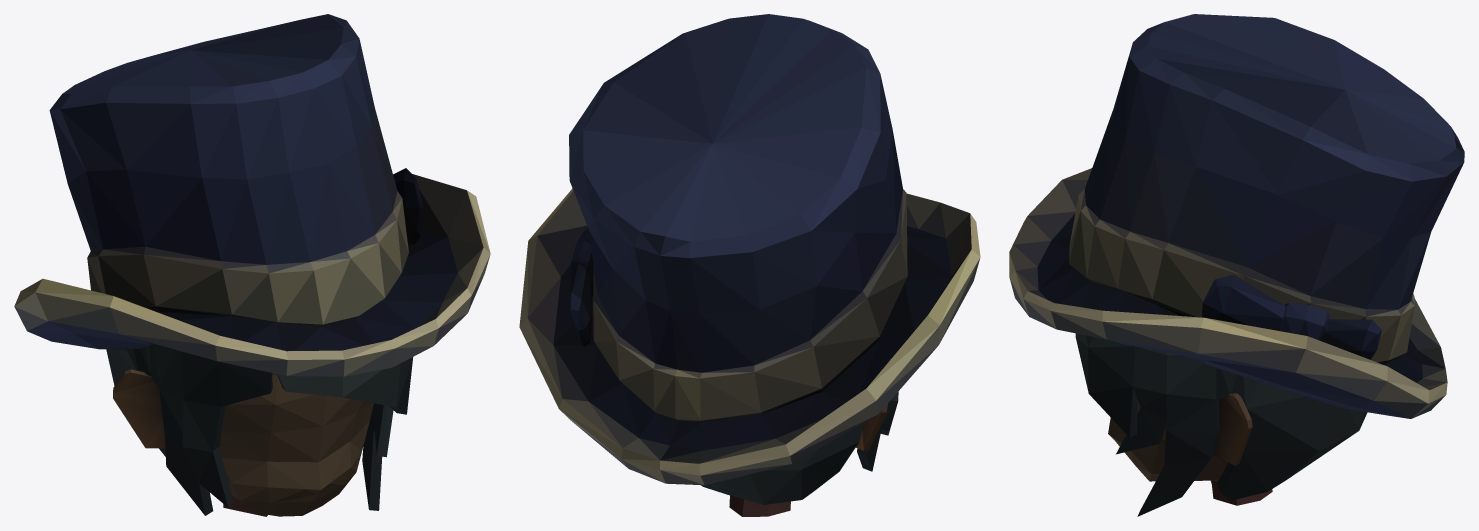
File: helm_darkskin_ponytail_black_tophat.fbx
3 views of the same model, side by side, from view 1: azimuth 30°, elevation 25°; view 2: azimuth 150°, elevation 25°; view 3: azimuth 270°, elevation 25° (orthographic). The views are drawn at different scales.
Visible parts, largest first — view 1: helm_darkskin_ponytail_black_tophat; view 2: helm_darkskin_ponytail_black_tophat; view 3: helm_darkskin_ponytail_black_tophat.
Part boxes in pixels (bbox=[...]): helm_darkskin_ponytail_black_tophat: bbox=[14, 14, 490, 516]; helm_darkskin_ponytail_black_tophat: bbox=[519, 14, 980, 516]; helm_darkskin_ponytail_black_tophat: bbox=[1009, 14, 1464, 516].
Size of the model in its own units: 1.67 by 1.86 by 1.69.
